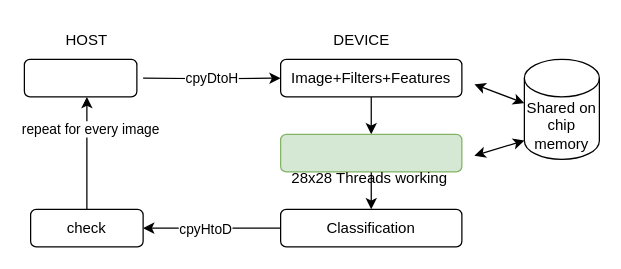
The diagram is 621 pixels wide and 269 high, and some of its shapes have lost their labels. The shapes that lost their labels are listed below. From the top down, each one's centre as x and y in pixels, then its label:
At (x=80, y=77): "image".
At (x=370, y=152): "Forward Propagation".
